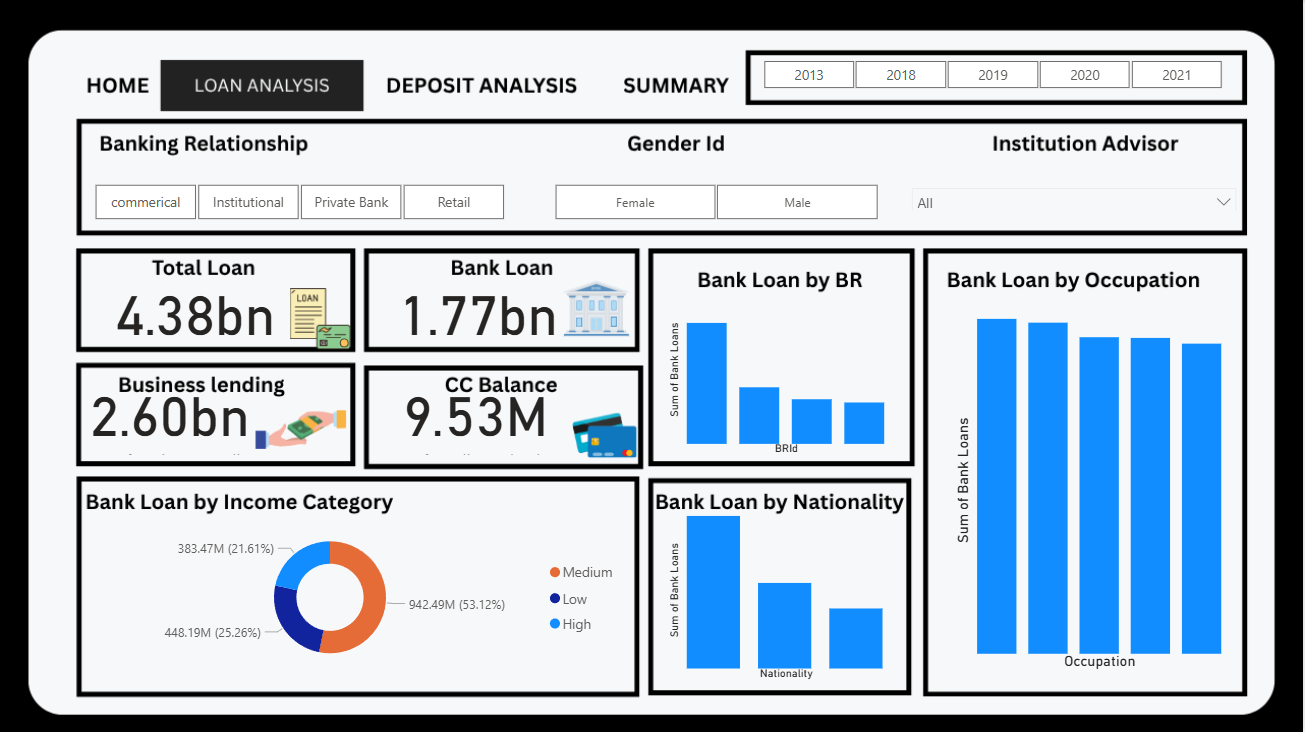

The page's visual inventory and layout, read from the dashboard file:
{"tool":"powerbi","page":{"name":"Loan analysis","canvas":[1280,720],"ordinal":1},"visuals":[{"type":"slicer","fields":{"Values":["banking_case customer.Year of joining"]},"box":[723.9,52.8,499.4,38],"z":0},{"type":"actionButton","box":[58.9,61.4,99.4,40.5],"z":1},{"type":"card","fields":{"Values":["banking_case customer.Total loans"]},"box":[37,275.8,310.1,75.5],"z":2},{"type":"card","fields":{"Values":["Sum(banking_case customer.Bank Loans)"]},"box":[311.5,275.8,315.6,75.5],"z":3},{"type":"card","fields":{"Values":["Sum(banking_case customer.Business Lending)"]},"box":[0,374.6,333.4,76.8],"z":4},{"type":"card","fields":{"Values":["Sum(banking_case customer.Credit Card Balance)"]},"box":[293.7,374.6,347.2,76.8],"z":5},{"type":"donutChart","fields":{"Category":["banking_case customer.Income Category"],"Y":["Sum(banking_case customer.Bank Loans)"]},"box":[104.3,511.7,511.7,149.7],"z":6},{"type":"clusteredColumnChart","fields":{"Category":["banking_case customer.BRId"],"Y":["Sum(banking_case customer.Bank Loans)"]},"box":[651.8,275.8,223.7,175.6],"z":7},{"type":"clusteredColumnChart","fields":{"Y":["Sum(banking_case customer.Bank Loans)"],"Category":["banking_case customer.Nationality"]},"box":[651.8,488.5,223.7,183.9],"z":8},{"type":"clusteredColumnChart","fields":{"Y":["Sum(banking_case customer.Bank Loans)"],"Category":["banking_case customer.Occupation"]},"box":[933.1,286.8,273.1,374.6],"z":9},{"type":"slicer","fields":{"Values":["banking_case customer.BRId"]},"box":[67.2,174.3,451.5,48],"z":10},{"type":"slicer","fields":{"Values":["banking_case customer.GenderId"]},"box":[518.7,174.3,366.4,48],"z":11},{"type":"slicer","fields":{"Values":["banking_case customer.IAId"]},"box":[885.1,174.3,338.9,32.9],"z":13},{"type":"actionButton","box":[360.9,63.1,226.4,39.8],"z":14},{"type":"actionButton","box":[602.4,63.1,122.1,39.8],"z":15}]}

Visuals, with their boxes in screenshot pixels (x1, y1, x2, y2), scaled from the page's 1280x720 canvas onto the 1305x732 screenshot:
slicer - banking_case customer.Year of joining: locate(738, 54, 1247, 92)
actionButton: locate(60, 62, 161, 104)
card - banking_case customer.Total loans: locate(38, 280, 354, 357)
card - Sum(banking_case customer.Bank Loans): locate(318, 280, 639, 357)
card - Sum(banking_case customer.Business Lending): locate(0, 381, 340, 459)
card - Sum(banking_case customer.Credit Card Balance): locate(299, 381, 653, 459)
donutChart - banking_case customer.Income Category x Sum(banking_case customer.Bank Loans): locate(106, 520, 628, 672)
clusteredColumnChart - banking_case customer.BRId x Sum(banking_case customer.Bank Loans): locate(665, 280, 893, 459)
clusteredColumnChart - Sum(banking_case customer.Bank Loans) x banking_case customer.Nationality: locate(665, 497, 893, 684)
clusteredColumnChart - Sum(banking_case customer.Bank Loans) x banking_case customer.Occupation: locate(951, 292, 1230, 672)
slicer - banking_case customer.BRId: locate(69, 177, 529, 226)
slicer - banking_case customer.GenderId: locate(529, 177, 902, 226)
slicer - banking_case customer.IAId: locate(902, 177, 1248, 211)
actionButton: locate(368, 64, 599, 105)
actionButton: locate(614, 64, 739, 105)
